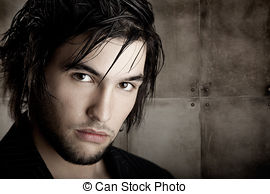face: (17, 9, 163, 171)
